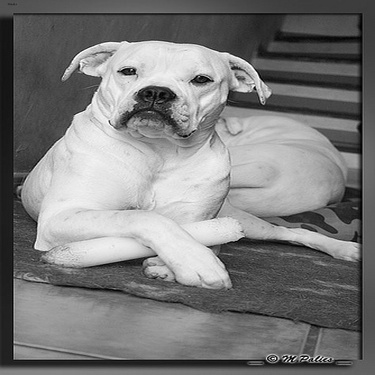dog: (16, 37, 360, 291)
